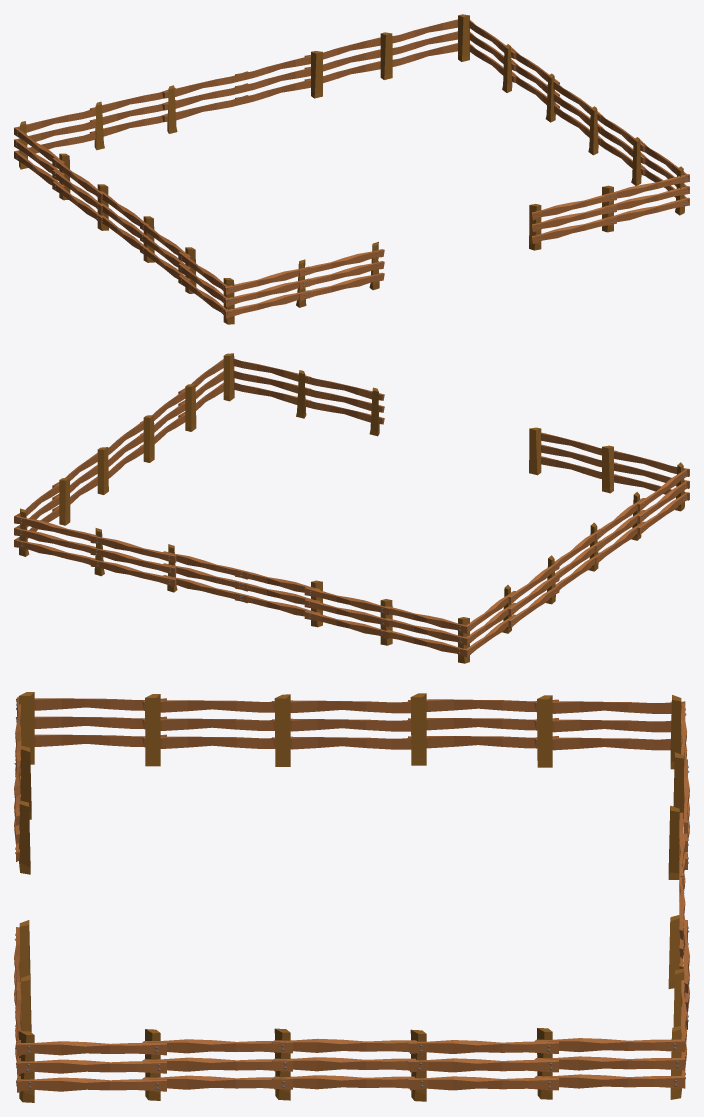
Rendered from fence.glb.
3 renders of one model, top to bottom at view 1: azimuth 30°, elevation 25°; view 2: azimuth 150°, elevation 25°; view 3: azimuth 270°, elevation 25°, orthographic. The views are drawn at different scales.
Visible parts, largest first — view 1: Object_6.021, Object_6.002, Object_6.013, Object_6.020, Object_6.004, Object_6.011, Object_6.003, Object_6.015, Object_6.009, Object_6.012, Object_6.010, Object_6.005 (+8 smaller); view 2: Object_6.009, Object_6.015, Object_6.012, Object_6.003, Object_6.002, Object_6.011, Object_6.021, Object_6.020, Object_6.004, Object_6.013, Object_6.010, Object_6.005 (+8 smaller); view 3: Object_6.014, Object_6.019, Object_6.016, Object_6.006, Object_6.008, Object_6.017, Object_6.018, Object_6.007, Object_6.010, Object_6.005, Object_6.002, Object_6.013 (+8 smaller).
Boxes of the visible parts, x1,y1,x2,y2 form: Object_6.021: (529, 192, 616, 250); Object_6.002: (298, 241, 384, 300); Object_6.013: (235, 51, 322, 105); Object_6.020: (602, 174, 689, 232); Object_6.004: (224, 259, 310, 318); Object_6.011: (162, 71, 248, 133); Object_6.003: (392, 14, 469, 66); Object_6.015: (304, 32, 392, 83); Object_6.009: (89, 87, 175, 150); Object_6.012: (16, 108, 95, 169); Object_6.010: (52, 157, 108, 230); Object_6.005: (178, 251, 234, 324); Object_6.009: (304, 587, 392, 645); Object_6.015: (89, 528, 176, 586); Object_6.012: (382, 606, 469, 663); Object_6.003: (14, 508, 98, 564); Object_6.002: (529, 427, 616, 478); Object_6.011: (235, 569, 322, 627); Object_6.021: (305, 377, 384, 436); Object_6.020: (233, 358, 310, 418); Object_6.004: (602, 445, 689, 500); Object_6.013: (163, 544, 248, 603); Object_6.010: (508, 555, 559, 627); Object_6.005: (637, 462, 688, 534); Object_6.014: (408, 1029, 558, 1101); Object_6.019: (16, 1031, 166, 1102); Object_6.016: (534, 1028, 685, 1099); Object_6.006: (272, 694, 411, 766); Object_6.008: (534, 695, 685, 767); Object_6.017: (142, 1029, 292, 1100); Object_6.018: (272, 1028, 422, 1100); Object_6.007: (142, 694, 292, 766); Object_6.010: (408, 693, 558, 765); Object_6.005: (16, 692, 166, 764); Object_6.002: (14, 752, 30, 874); Object_6.013: (668, 866, 685, 988).
Bounding box in the file's own units: 9.72 × 0.8861 × 7.98.
